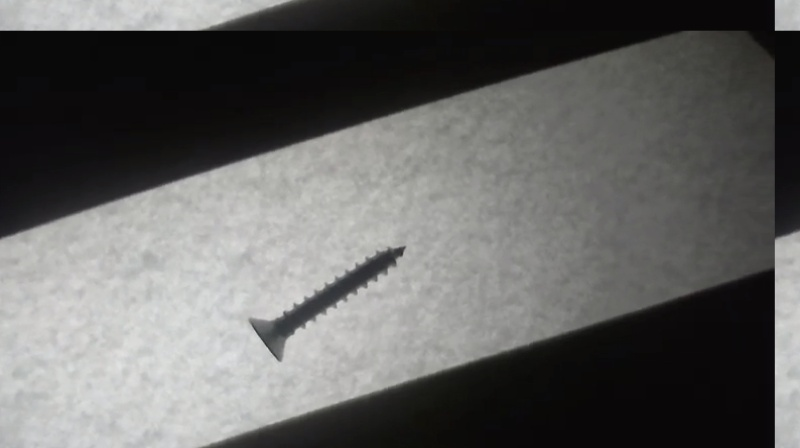S001: (245, 241, 408, 363)
